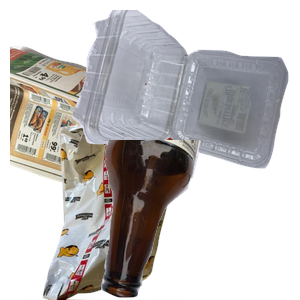glass: (99, 140, 300, 300)
paper: (10, 42, 224, 222)
plastic: (70, 10, 300, 171)
trash: (25, 120, 198, 300)
